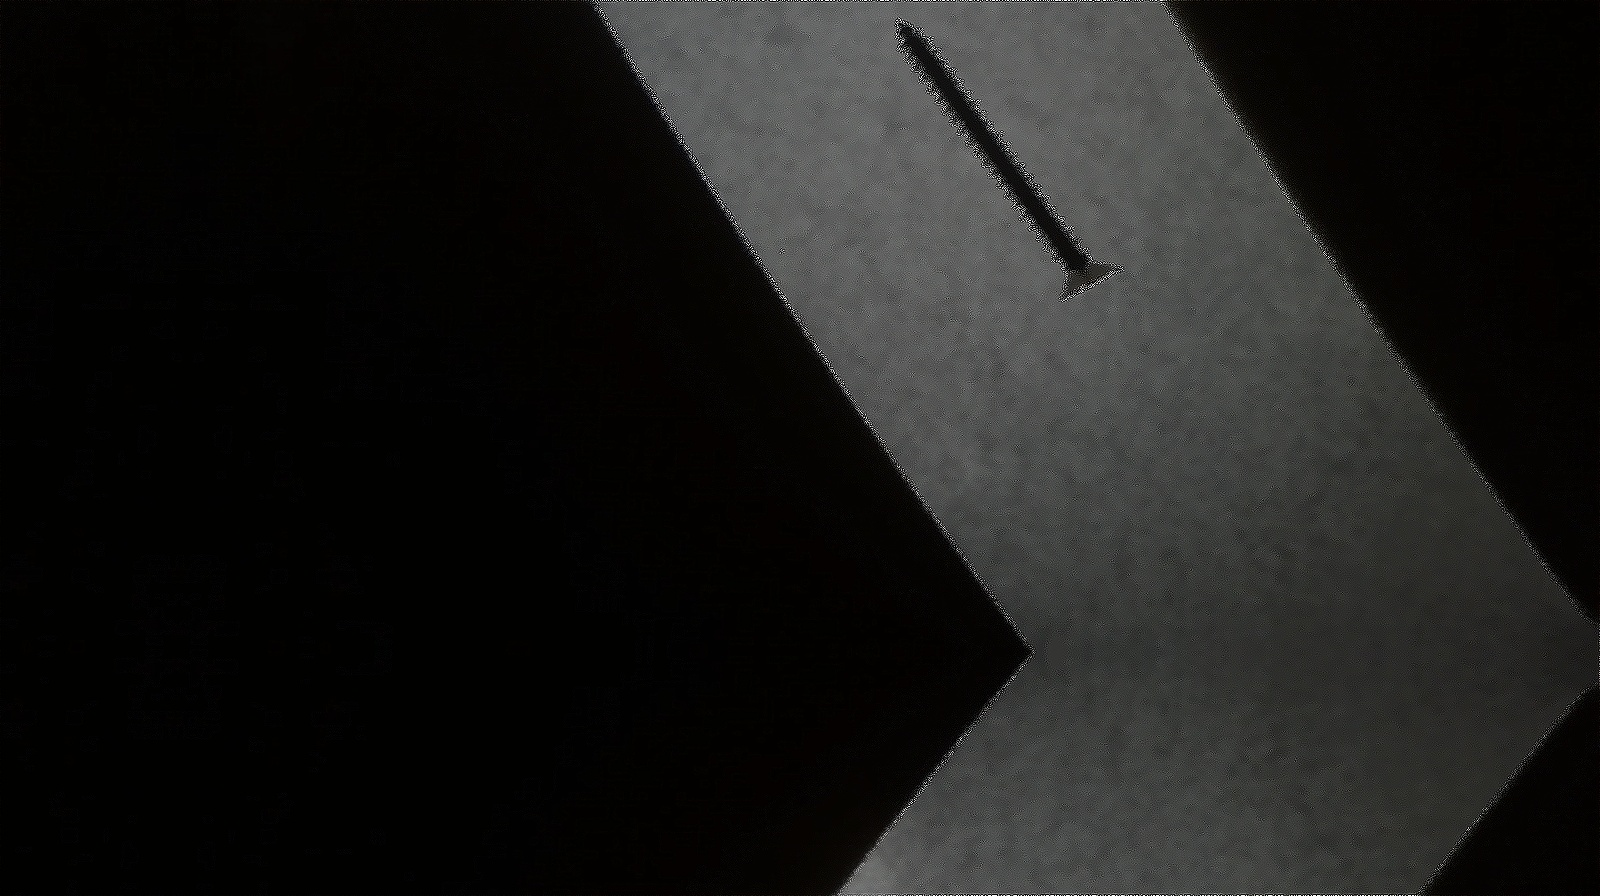S002: (863, 1, 1138, 305)
